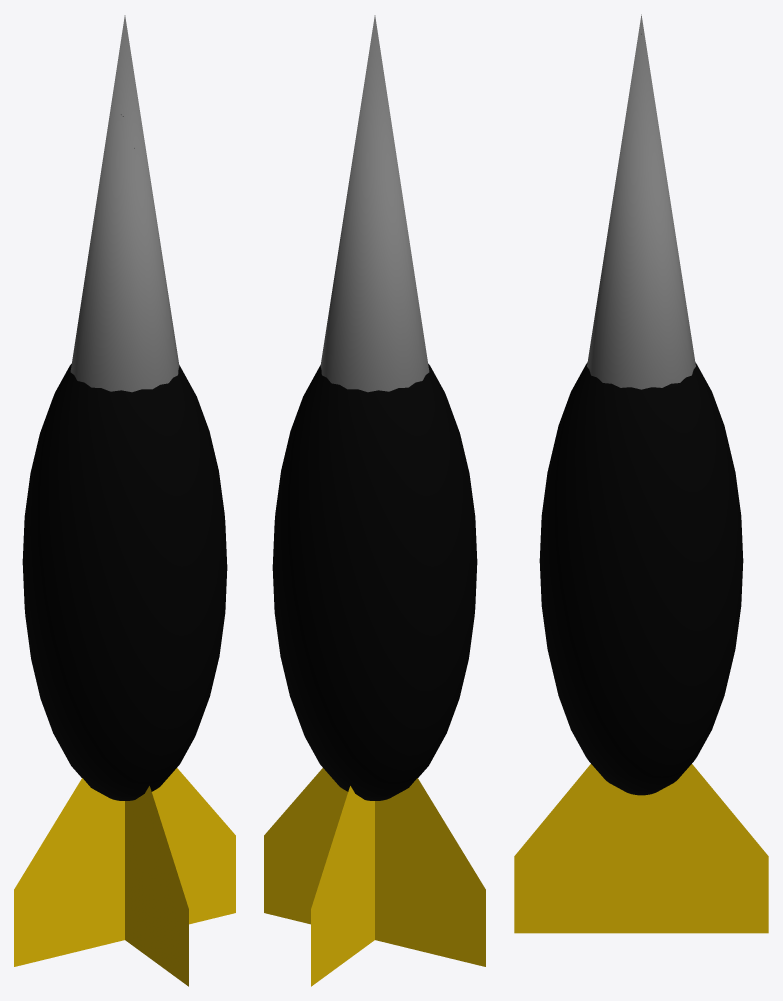
The model's file is dart.obj.
3 renders of one model, left to right at view 1: azimuth 30°, elevation 25°; view 2: azimuth 150°, elevation 25°; view 3: azimuth 270°, elevation 25°, orthographic.
Parts seen in each view (by area): view 1: Dart.003; view 2: Dart.003; view 3: Dart.003.
Part boxes in pixels (box(x1,y1,x2,y2)): Dart.003: box(14, 15, 235, 986); Dart.003: box(264, 15, 485, 986); Dart.003: box(514, 14, 768, 933).
Size of the model in its own units: 1 by 3.99 by 1.
1 material, 1 textured.
